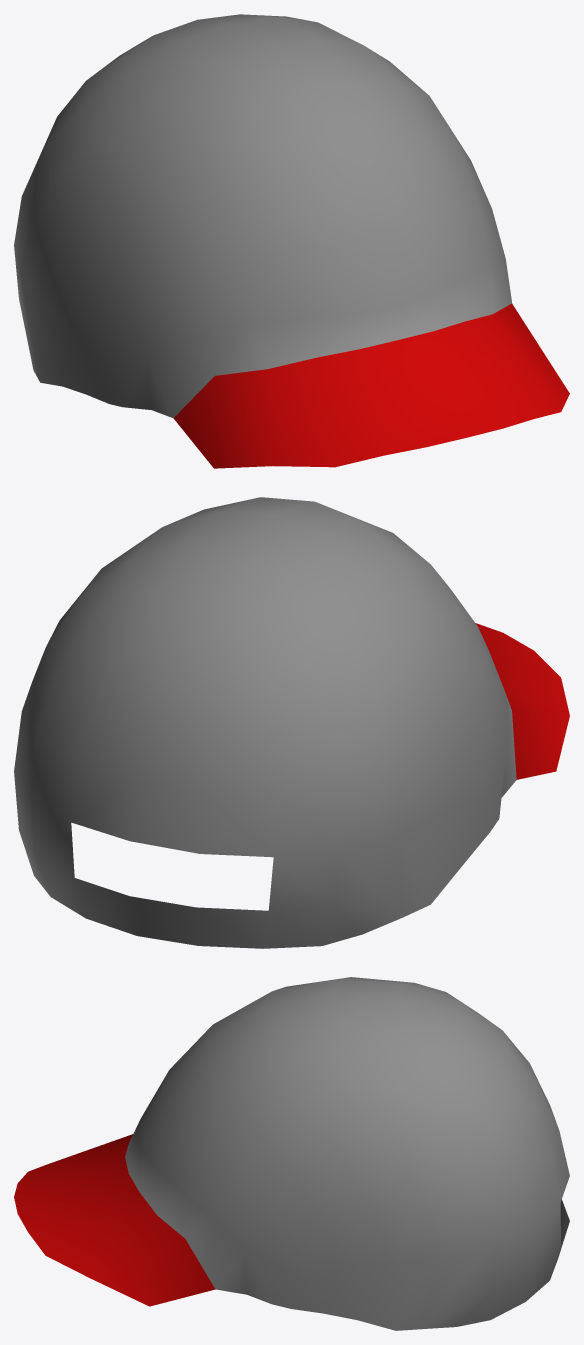
3 views of the same model, one above another, from view 1: azimuth 30°, elevation 25°; view 2: azimuth 150°, elevation 25°; view 3: azimuth 270°, elevation 25° (orthographic). The views are drawn at different scales.
Parts seen in each view (by area): view 1: Object001; view 2: Object001; view 3: Object001.
Part boxes in pixels (x1=…): Object001: x1=14, y1=14, x2=569, y2=468; Object001: x1=14, y1=497, x2=569, y2=948; Object001: x1=14, y1=977, x2=569, y2=1330.
Bounding box in the file's own units: 19.88 × 15.71 × 29.55.
